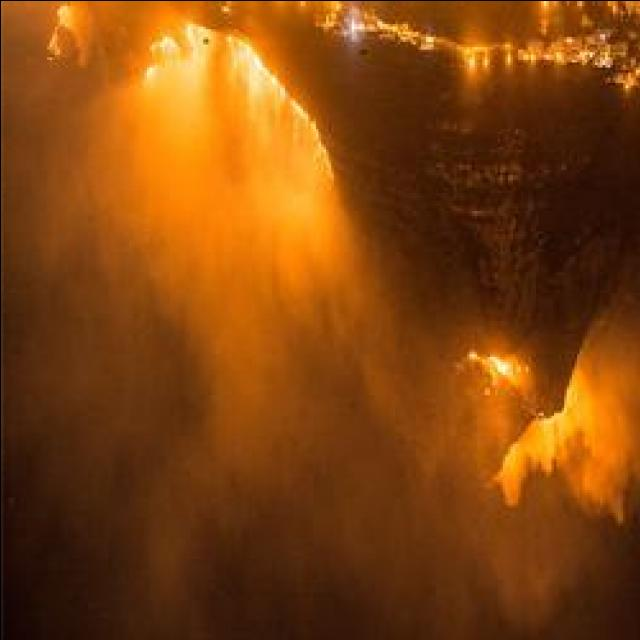fire: (228, 35, 276, 93), (166, 22, 207, 72), (493, 355, 511, 376)
smoke: (282, 382, 414, 598), (72, 130, 248, 288), (192, 332, 312, 500), (225, 165, 343, 312), (0, 0, 59, 270), (468, 540, 596, 640), (113, 489, 204, 627), (576, 358, 639, 524), (108, 98, 214, 185), (231, 117, 310, 199), (494, 442, 568, 504), (536, 416, 611, 466)
